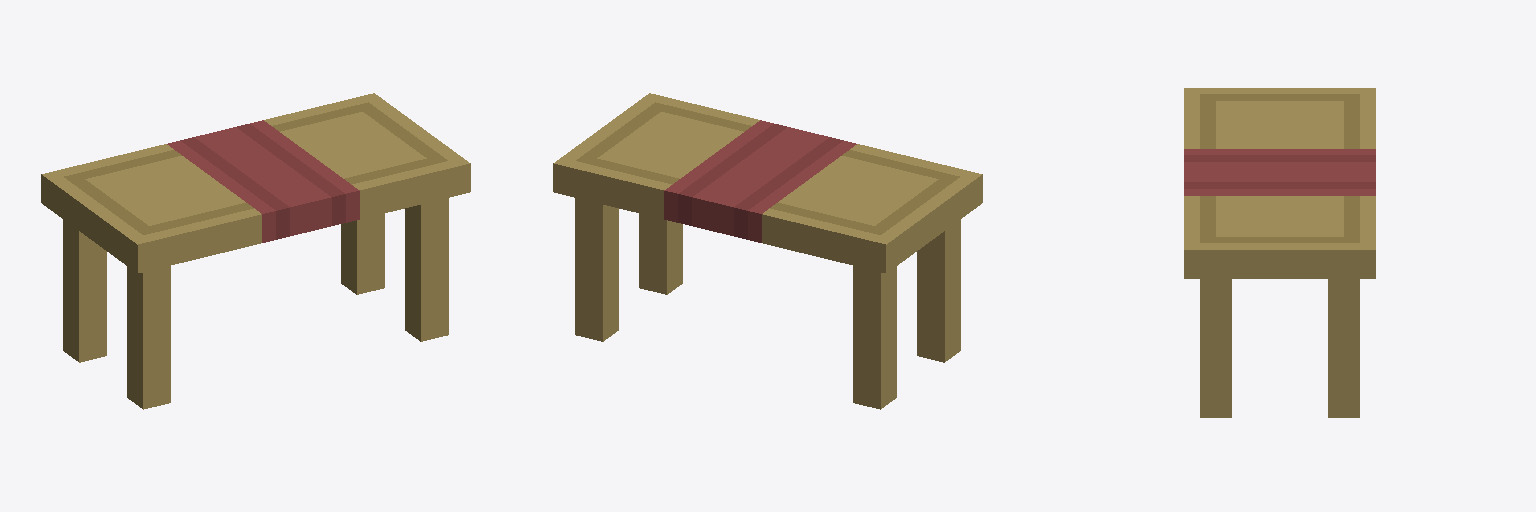
The picture shows the model from 3 angles: view 1: azimuth 30°, elevation 25°; view 2: azimuth 150°, elevation 25°; view 3: azimuth 270°, elevation 25°; orthographic projection.
Visible parts, largest first — view 1: Table; view 2: Table; view 3: Table.
Part boxes in pixels (x1,y1,x2,y2): Table: (41, 93, 470, 409); Table: (553, 93, 982, 409); Table: (1184, 88, 1375, 417).
Bounding box in the file's own units: 0.75 × 0.375 × 0.375.
Materials: 1 (1 with a texture image).